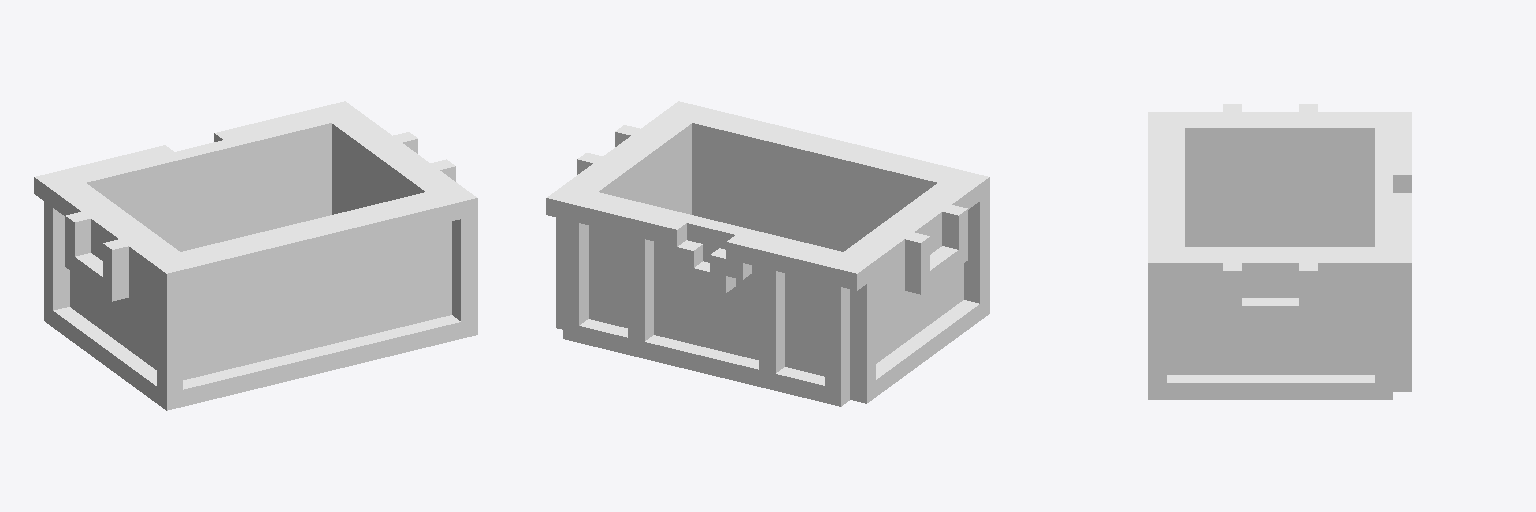
File: Bottom.obj
The picture shows the model from 3 angles: view 1: azimuth 30°, elevation 25°; view 2: azimuth 150°, elevation 25°; view 3: azimuth 270°, elevation 25°; orthographic projection.
Parts seen in each view (by area): view 1: Bottom; view 2: Bottom; view 3: Bottom.
Part boxes in pixels (left/top/right/bottom): Bottom: left=34, top=101, right=477, bottom=410; Bottom: left=546, top=101, right=989, bottom=406; Bottom: left=1148, top=104, right=1411, bottom=399.
Bounding box in the file's own units: 21 × 8 × 14.